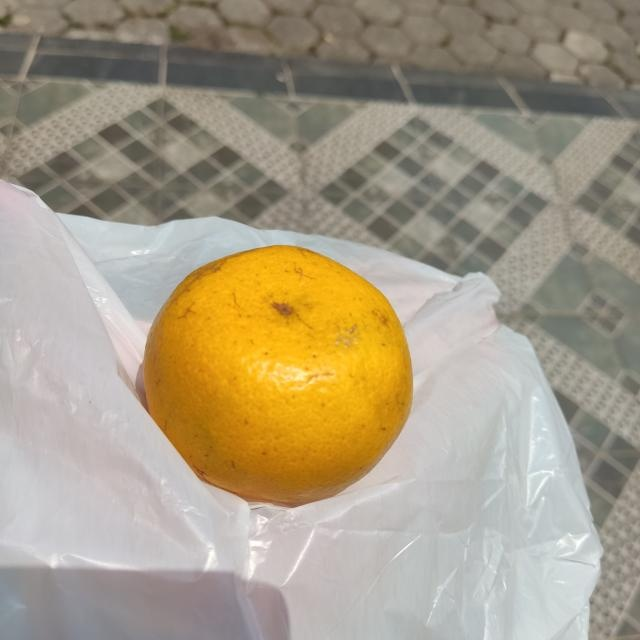agrume: (139, 243, 415, 509)
